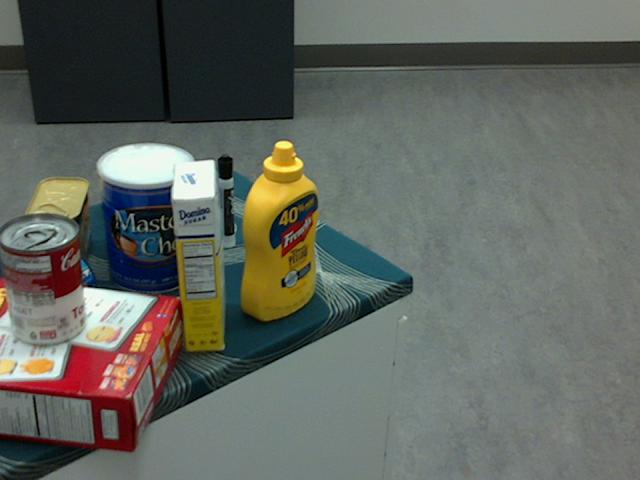cracker_box: (0, 275, 181, 452)
large_marker: (217, 153, 235, 247)
master_chef_can: (95, 143, 195, 295)
mug: (100, 144, 191, 227)
mustard_bottle: (239, 139, 319, 320)
potted_meat_can: (26, 176, 90, 281)
sugar_box: (170, 158, 225, 352)
tomato_soup_can: (0, 213, 85, 345)
tuna_fish_can: (6, 244, 96, 330)
